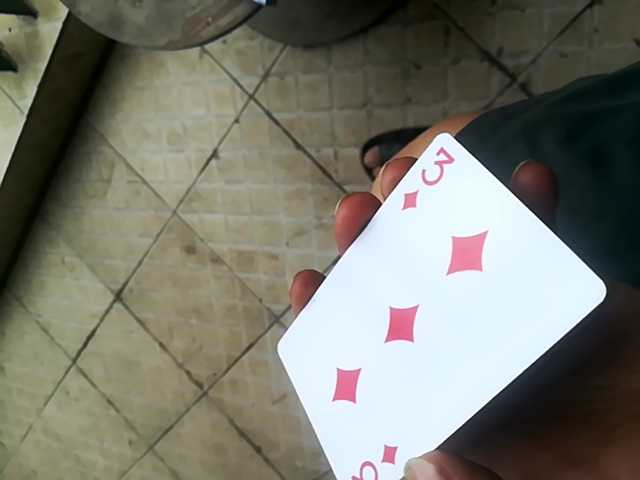fk 3: (269, 125, 612, 478)
